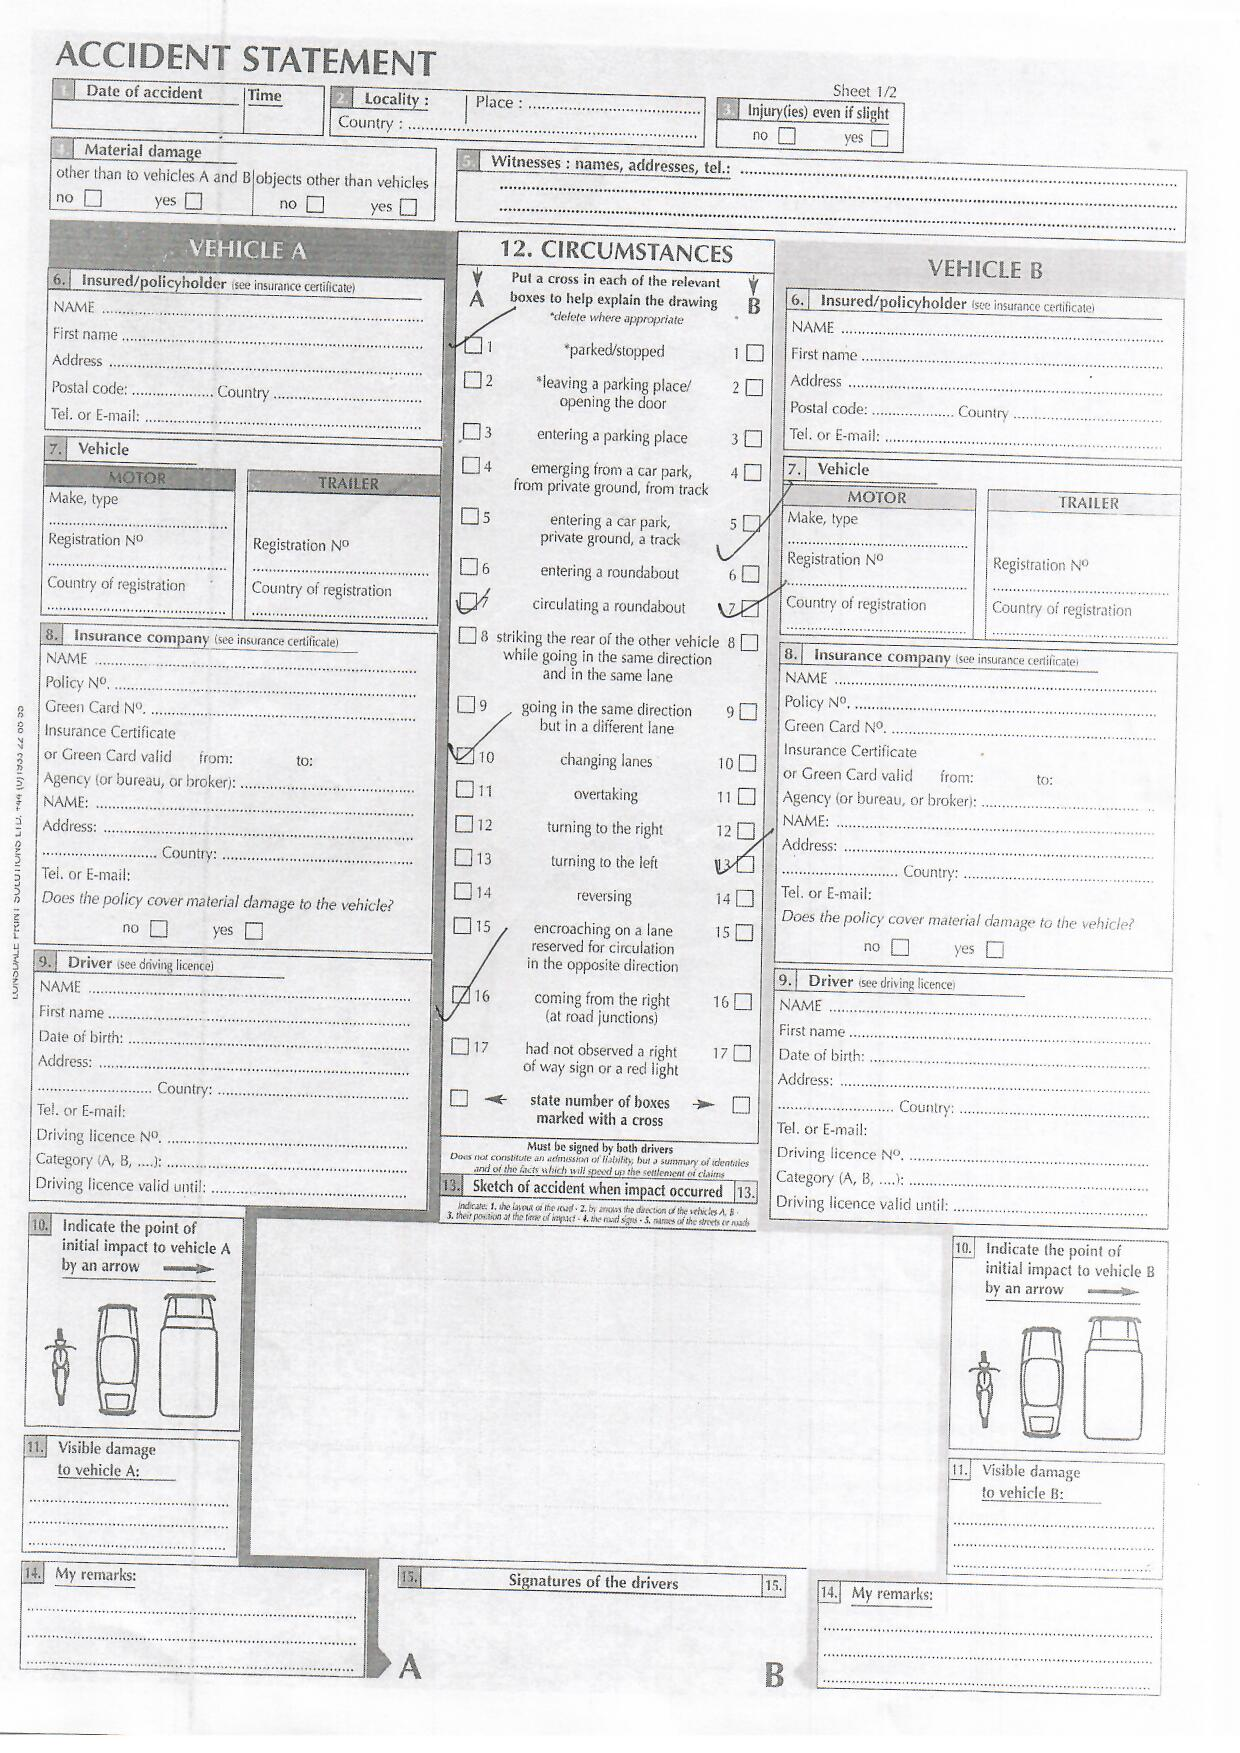a: (454, 587, 484, 615), (734, 595, 762, 625), (447, 981, 476, 1009), (735, 510, 766, 537), (450, 744, 479, 768), (731, 851, 757, 878), (462, 334, 484, 361)
